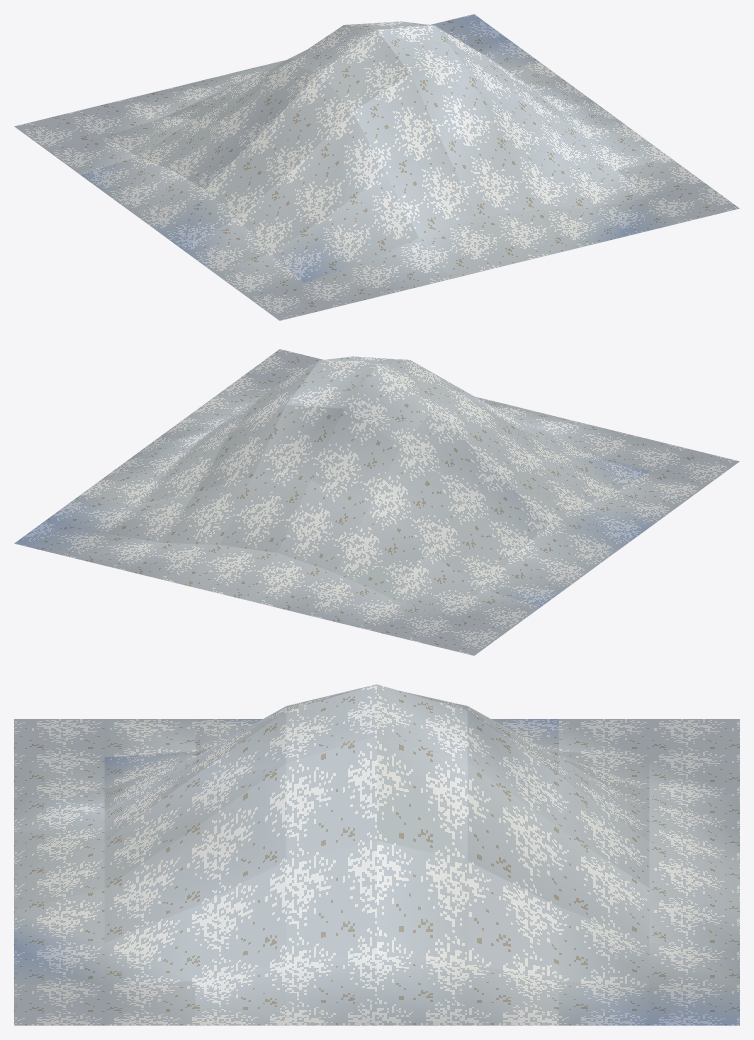
The model's file is mter.hill__big.glb.
3 renders of one model, top to bottom at view 1: azimuth 30°, elevation 25°; view 2: azimuth 150°, elevation 25°; view 3: azimuth 270°, elevation 25°, orthographic. The views are drawn at different scales.
Parts seen in each view (by area): view 1: kit_shell_hill; view 2: kit_shell_hill; view 3: kit_shell_hill.
Boxes of the visible parts, x1=… form: kit_shell_hill: x1=14, y1=14, x2=739, y2=320; kit_shell_hill: x1=14, y1=349, x2=739, y2=655; kit_shell_hill: x1=14, y1=684, x2=739, y2=1025.
Bounding box in the file's own units: 28 × 8 × 28.
Materials: 1 (1 with a texture image).
